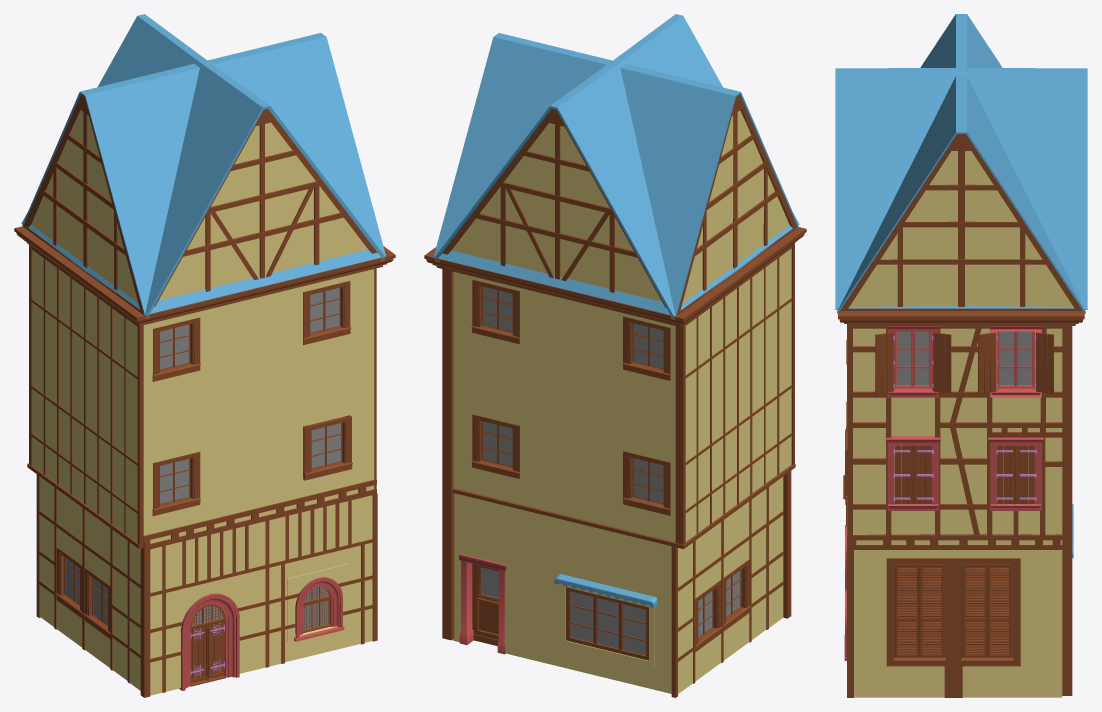
Rendered from muwu16.FBX.
3 renders of one model, left to right at view 1: azimuth 30°, elevation 25°; view 2: azimuth 150°, elevation 25°; view 3: azimuth 270°, elevation 25°, orthographic.
Visible parts, largest first — view 1: HouseLG04_PlasterYellow, HouseLG04_Wood_Beams, HouseLG04_RoofTiles, HouseLG04_Glass, HouseLG04_Stone_Stacked, HouseLG04_WoodDark, HouseLG04_Mullions_Wood; view 2: HouseLG04_PlasterYellow, HouseLG04_RoofTiles, HouseLG04_Wood_Beams, HouseLG04_Glass, HouseLG04_WoodDark, HouseLG04_Stone_Stacked, HouseLG04_Mullions_Wood, HouseLG04_Cloth; view 3: HouseLG04_PlasterYellow, HouseLG04_RoofTiles, HouseLG04_Wood_Beams, HouseLG04_WoodDark, HouseLG04_Stone_Stacked, HouseLG04_Glass, HouseLG04_Metal_Pitted.
Part boxes in pixels (x1,y1,x2,y2): HouseLG04_PlasterYellow: [31, 110, 374, 695]; HouseLG04_Wood_Beams: [14, 94, 395, 697]; HouseLG04_RoofTiles: [21, 14, 385, 316]; HouseLG04_Glass: [65, 288, 340, 629]; HouseLG04_Stone_Stacked: [179, 577, 344, 690]; HouseLG04_WoodDark: [189, 586, 330, 686]; HouseLG04_Mullions_Wood: [64, 287, 342, 629]; HouseLG04_PlasterYellow: [451, 110, 791, 693]; HouseLG04_RoofTiles: [433, 14, 799, 317]; HouseLG04_Wood_Beams: [424, 94, 806, 697]; HouseLG04_Glass: [481, 286, 740, 655]; HouseLG04_WoodDark: [472, 563, 648, 660]; HouseLG04_Stone_Stacked: [459, 553, 506, 654]; HouseLG04_Mullions_Wood: [481, 286, 741, 638]; HouseLG04_Cloth: [554, 574, 657, 608]; HouseLG04_PlasterYellow: [849, 151, 1073, 697]; HouseLG04_RoofTiles: [835, 14, 1087, 311]; HouseLG04_Wood_Beams: [837, 134, 1085, 697]; HouseLG04_WoodDark: [875, 332, 1053, 662]; HouseLG04_Stone_Stacked: [844, 326, 1043, 660]; HouseLG04_Glass: [897, 331, 1031, 534]; HouseLG04_Metal_Pitted: [893, 336, 1036, 501].
Size of the model in its own units: 11.86 by 24.92 by 9.96.
